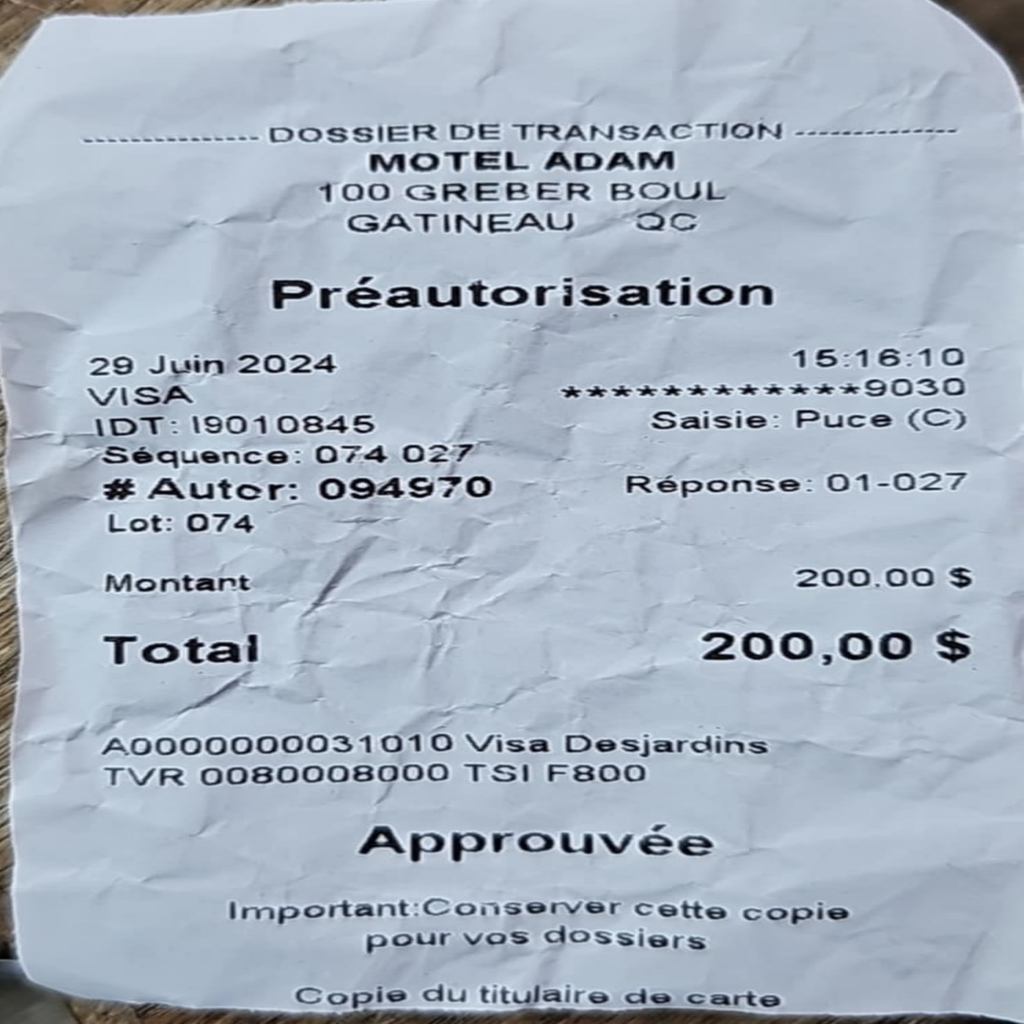recipt: (2, 4, 1022, 1014)
